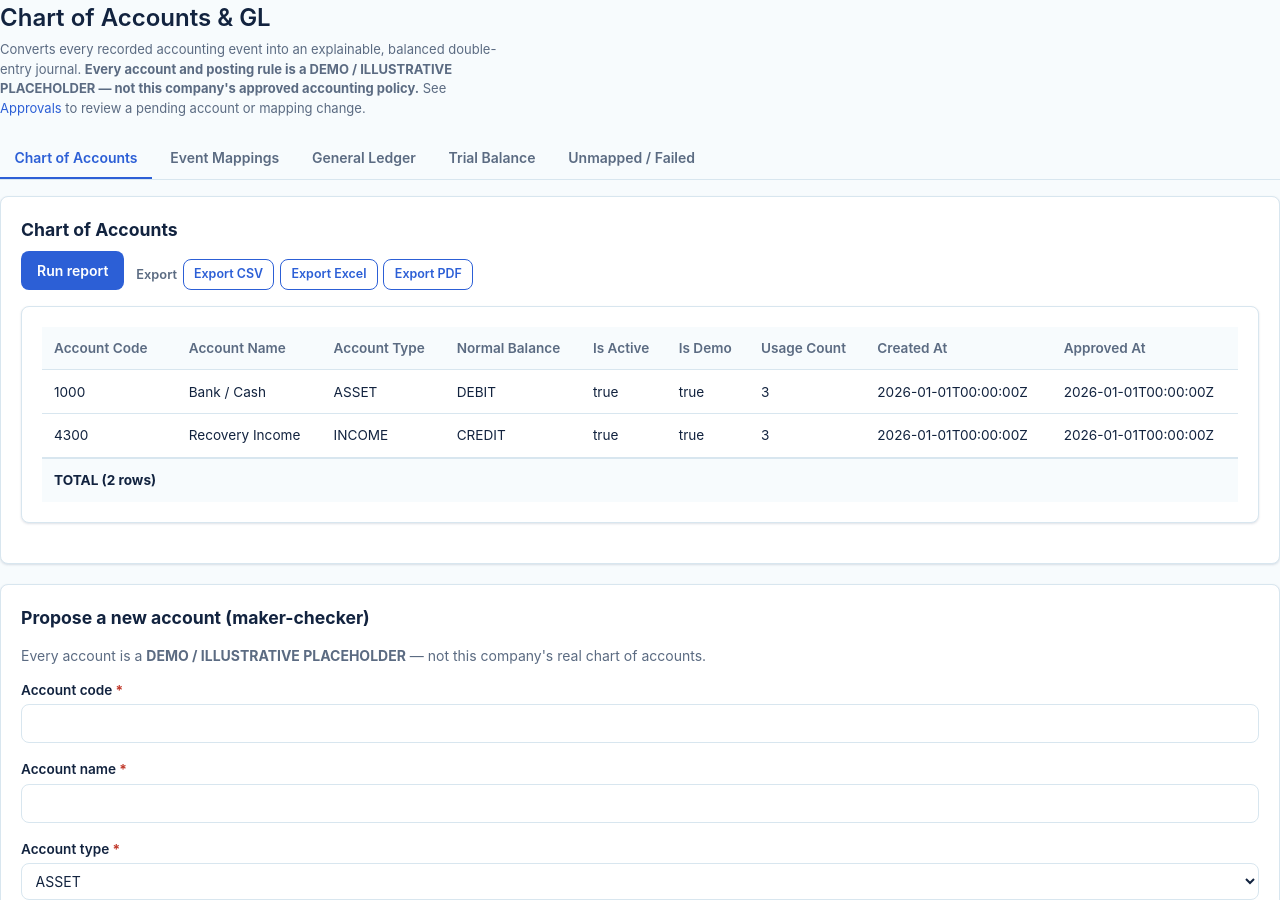
Test: Chart of Accounts & GL — General Ledger tab › requires an account to be selected before showing the ledger
Click the tab "General Ledger": (364, 158) [298, 138, 430, 179]
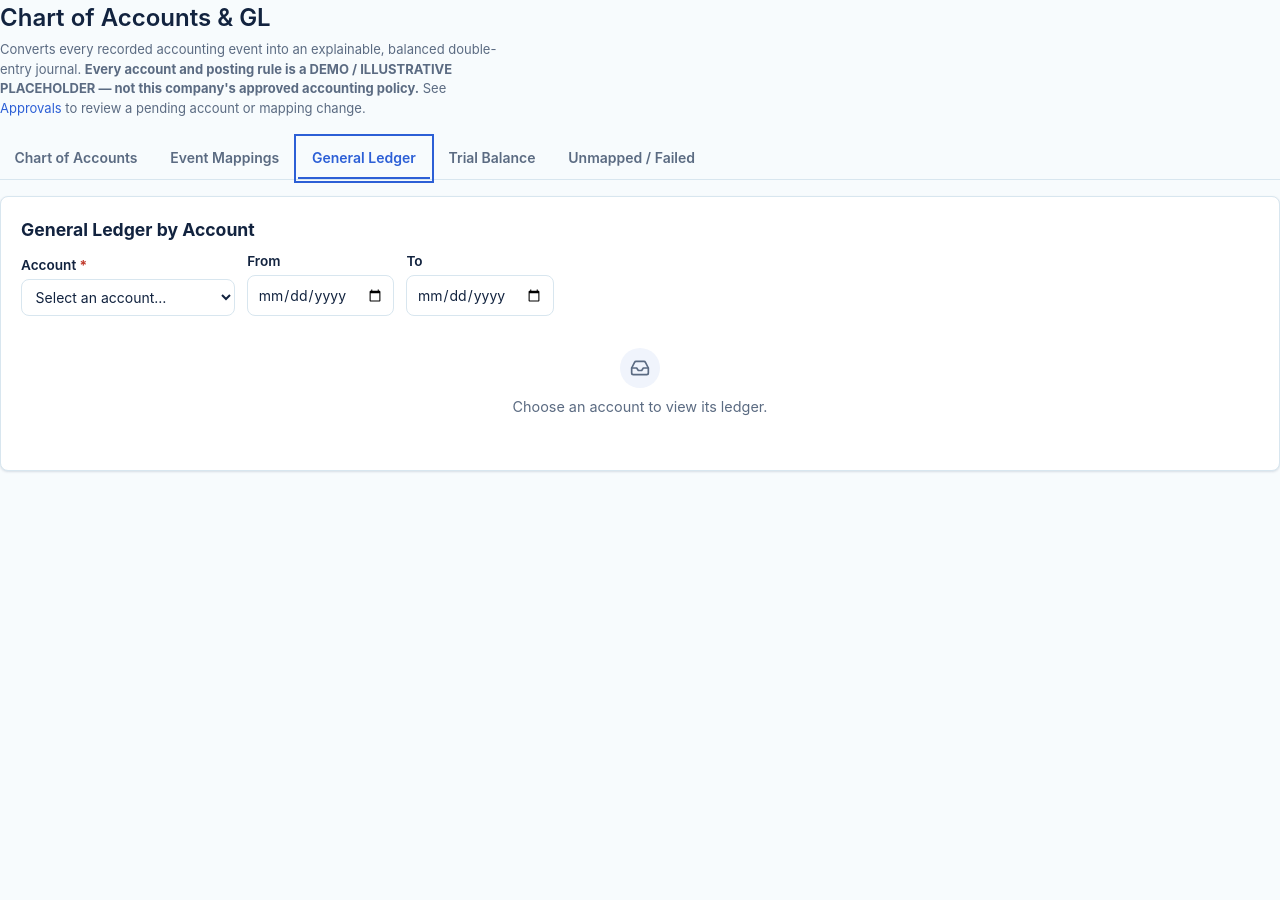
Check: the element with test id "coa-tab-ledger" is shown, box [0, 196, 1279, 471]
Check: the text "Choose an account to view its ledger." is shown, box [512, 396, 767, 418]
